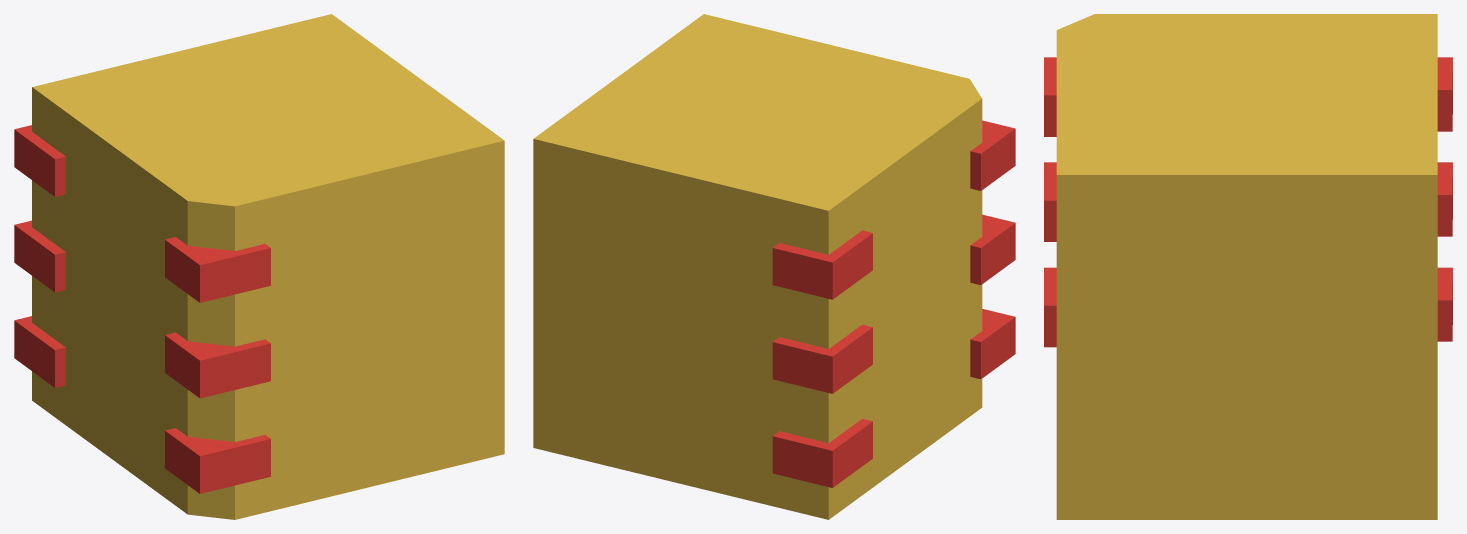
Rendered from 1Right Connect yellowred.fbx.
The picture shows the model from 3 angles, left to right: view 1: azimuth 30°, elevation 25°; view 2: azimuth 150°, elevation 25°; view 3: azimuth 270°, elevation 25°; orthographic projection. The views are drawn at different scales.
Parts seen in each view (by area): view 1: pCube2, pCube4, pCube5, pCube3, pCube6, pCube8, pCube7; view 2: pCube2, pCube8, pCube6, pCube7, pCube4, pCube3, pCube5; view 3: pCube2, pCube6, pCube8, pCube7, pCube5, pCube3, pCube4.
Part boxes in pixels (x1,y1,x2,y2): pCube2: (32, 14, 504, 519); pCube4: (165, 332, 270, 398); pCube5: (165, 428, 270, 493); pCube3: (165, 237, 270, 302); pCube6: (14, 220, 65, 292); pCube8: (14, 125, 65, 196); pCube7: (14, 316, 65, 387); pCube2: (533, 14, 982, 519); pCube8: (772, 230, 872, 299); pCube6: (772, 324, 872, 393); pCube7: (772, 418, 872, 487); pCube4: (970, 214, 1015, 285); pCube3: (970, 120, 1015, 190); pCube5: (970, 309, 1015, 379); pCube2: (1056, 14, 1437, 519); pCube6: (1437, 162, 1452, 236); pCube8: (1437, 57, 1452, 131); pCube7: (1437, 267, 1452, 341); pCube5: (1044, 267, 1056, 347); pCube3: (1044, 57, 1056, 136); pCube4: (1044, 162, 1056, 241).
Bounding box in the file's own units: 2.07 × 2 × 2.15.
